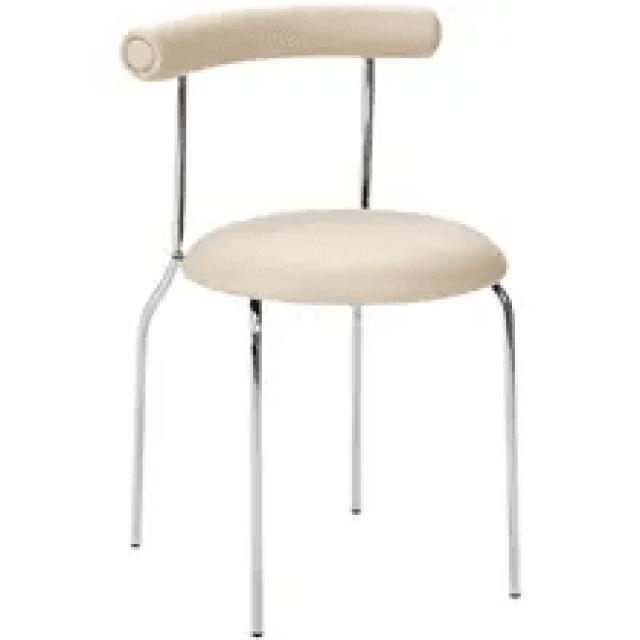chair: (109, 0, 534, 640), (118, 0, 508, 305)
